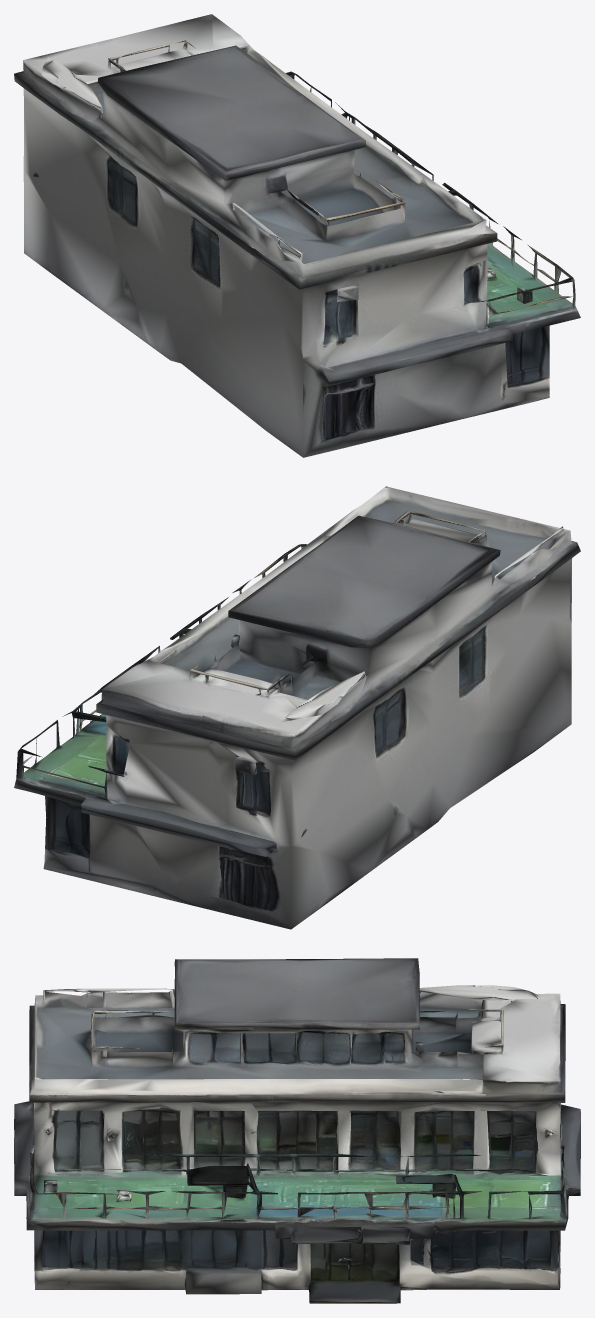
The model's file is clubhaus_gross.glb.
3 renders of one model, top to bottom at view 1: azimuth 30°, elevation 25°; view 2: azimuth 150°, elevation 25°; view 3: azimuth 270°, elevation 25°, orthographic. The views are drawn at different scales.
Visible parts, largest first — view 1: tripo_node_f7ce7d33-bf5b-4a78-bc74-10975ab0480d; view 2: tripo_node_f7ce7d33-bf5b-4a78-bc74-10975ab0480d; view 3: tripo_node_f7ce7d33-bf5b-4a78-bc74-10975ab0480d.
Boxes of the visible parts, left/top/right/bottom form: tripo_node_f7ce7d33-bf5b-4a78-bc74-10975ab0480d: left=14, top=14, right=580, bottom=457; tripo_node_f7ce7d33-bf5b-4a78-bc74-10975ab0480d: left=14, top=486, right=580, bottom=929; tripo_node_f7ce7d33-bf5b-4a78-bc74-10975ab0480d: left=14, top=958, right=580, bottom=1303.
Bounding box in the file's own units: 0.5579 × 0.4246 × 0.9994.
Materials: 1 (1 with a texture image).
